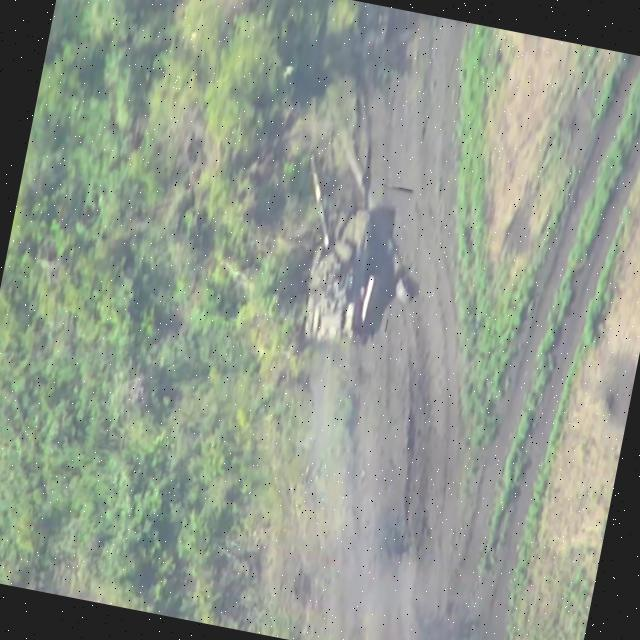MBT: (276, 149, 396, 355)
